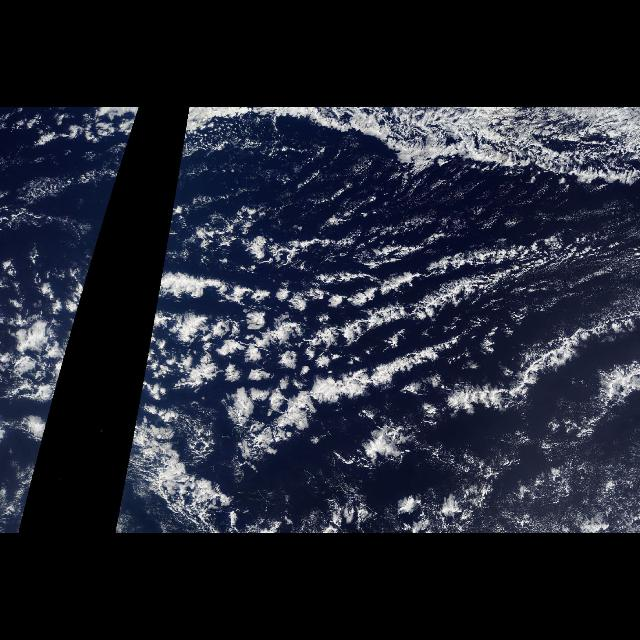Fish: (171, 108, 637, 192), (82, 108, 140, 192)
Flower: (118, 238, 624, 524)
Sugar: (194, 138, 626, 244), (504, 405, 640, 533)
